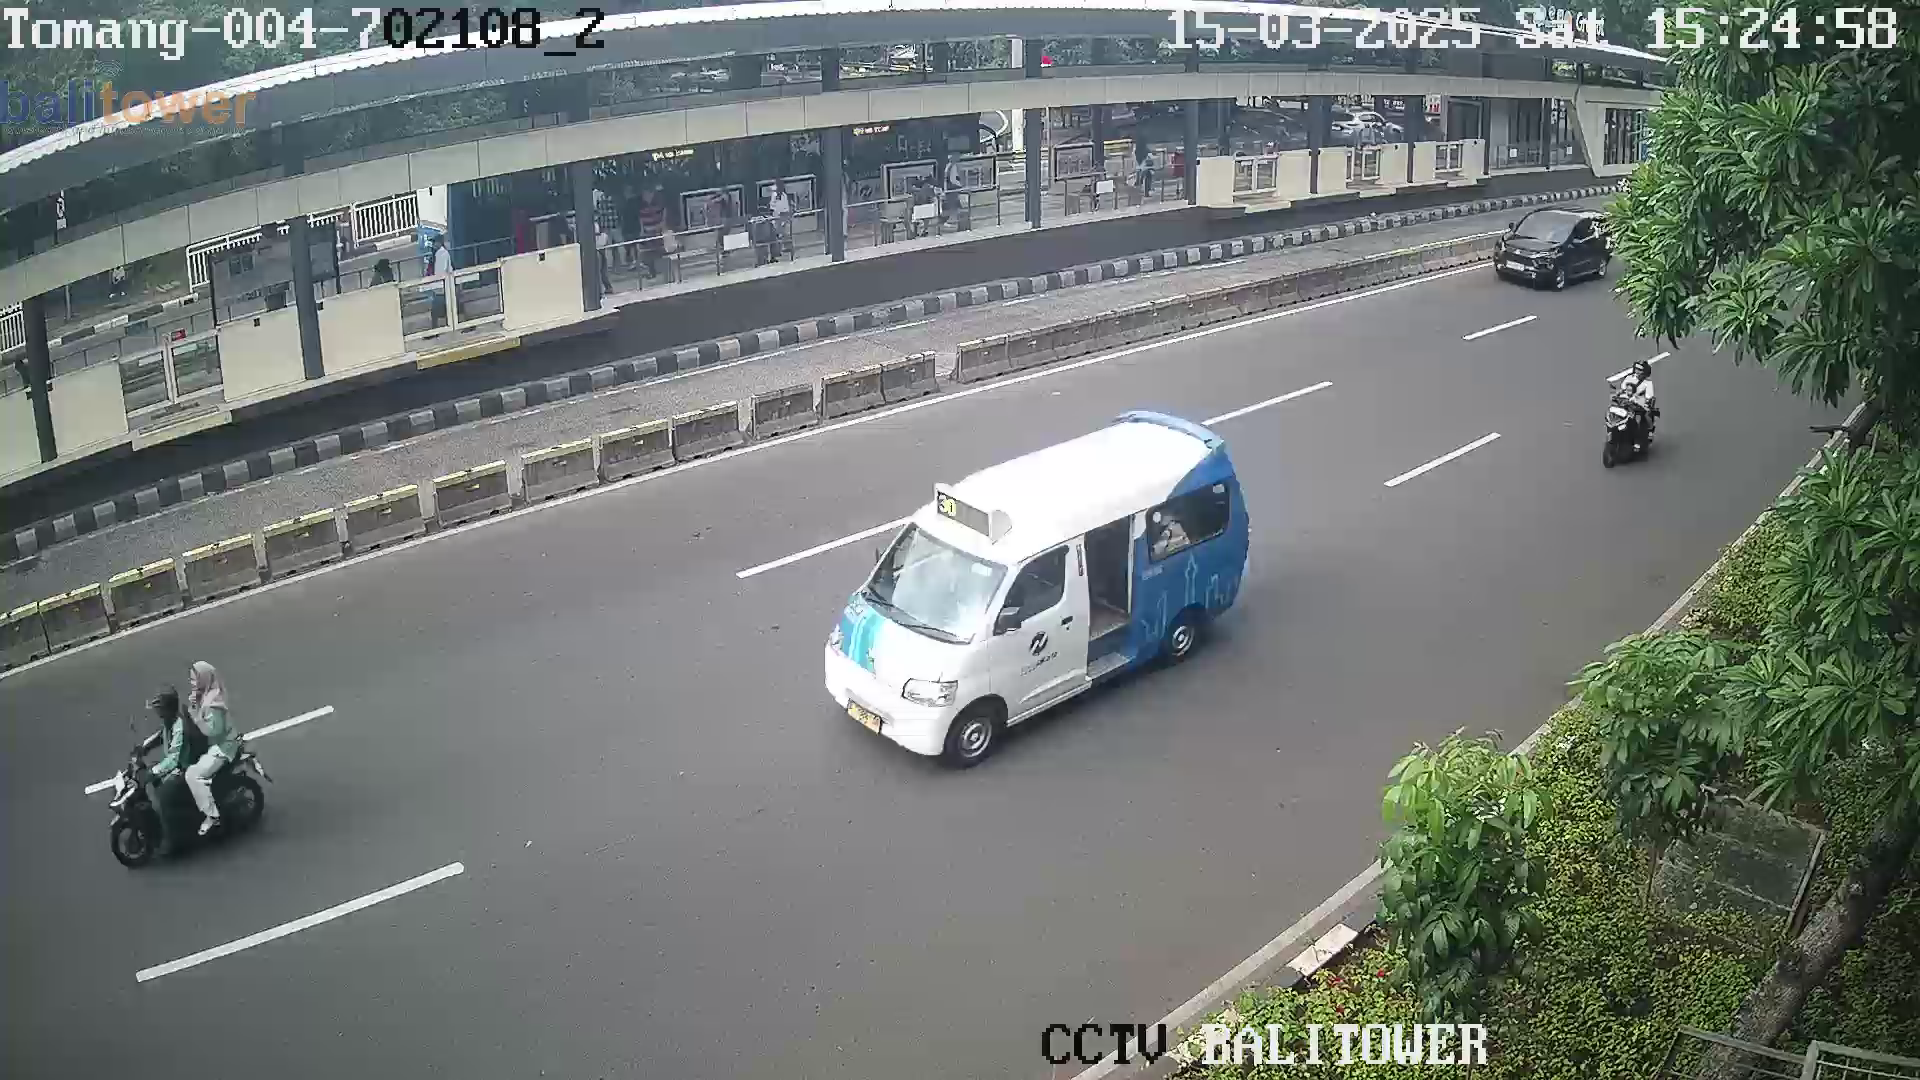half-face helmet: (143, 688, 176, 731), (1629, 357, 1661, 382)
no helmet: (184, 659, 229, 726), (1621, 378, 1645, 402)
